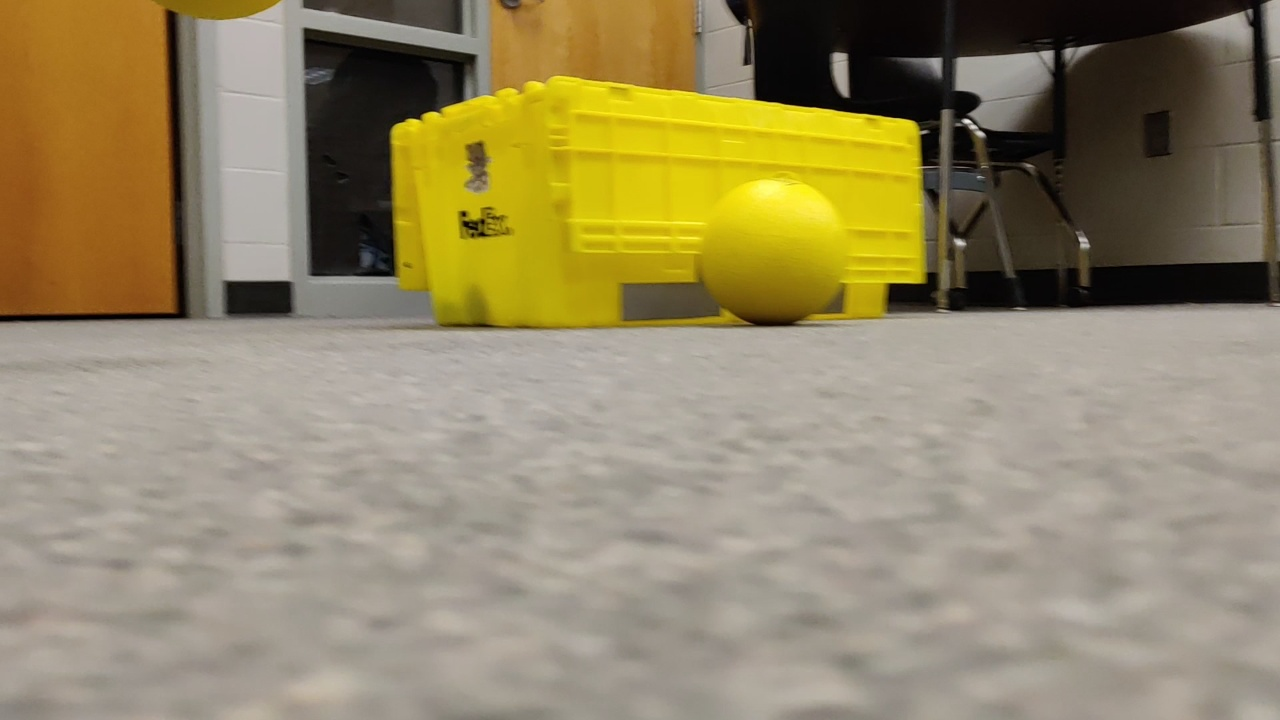Ball: (700, 174, 854, 322)
